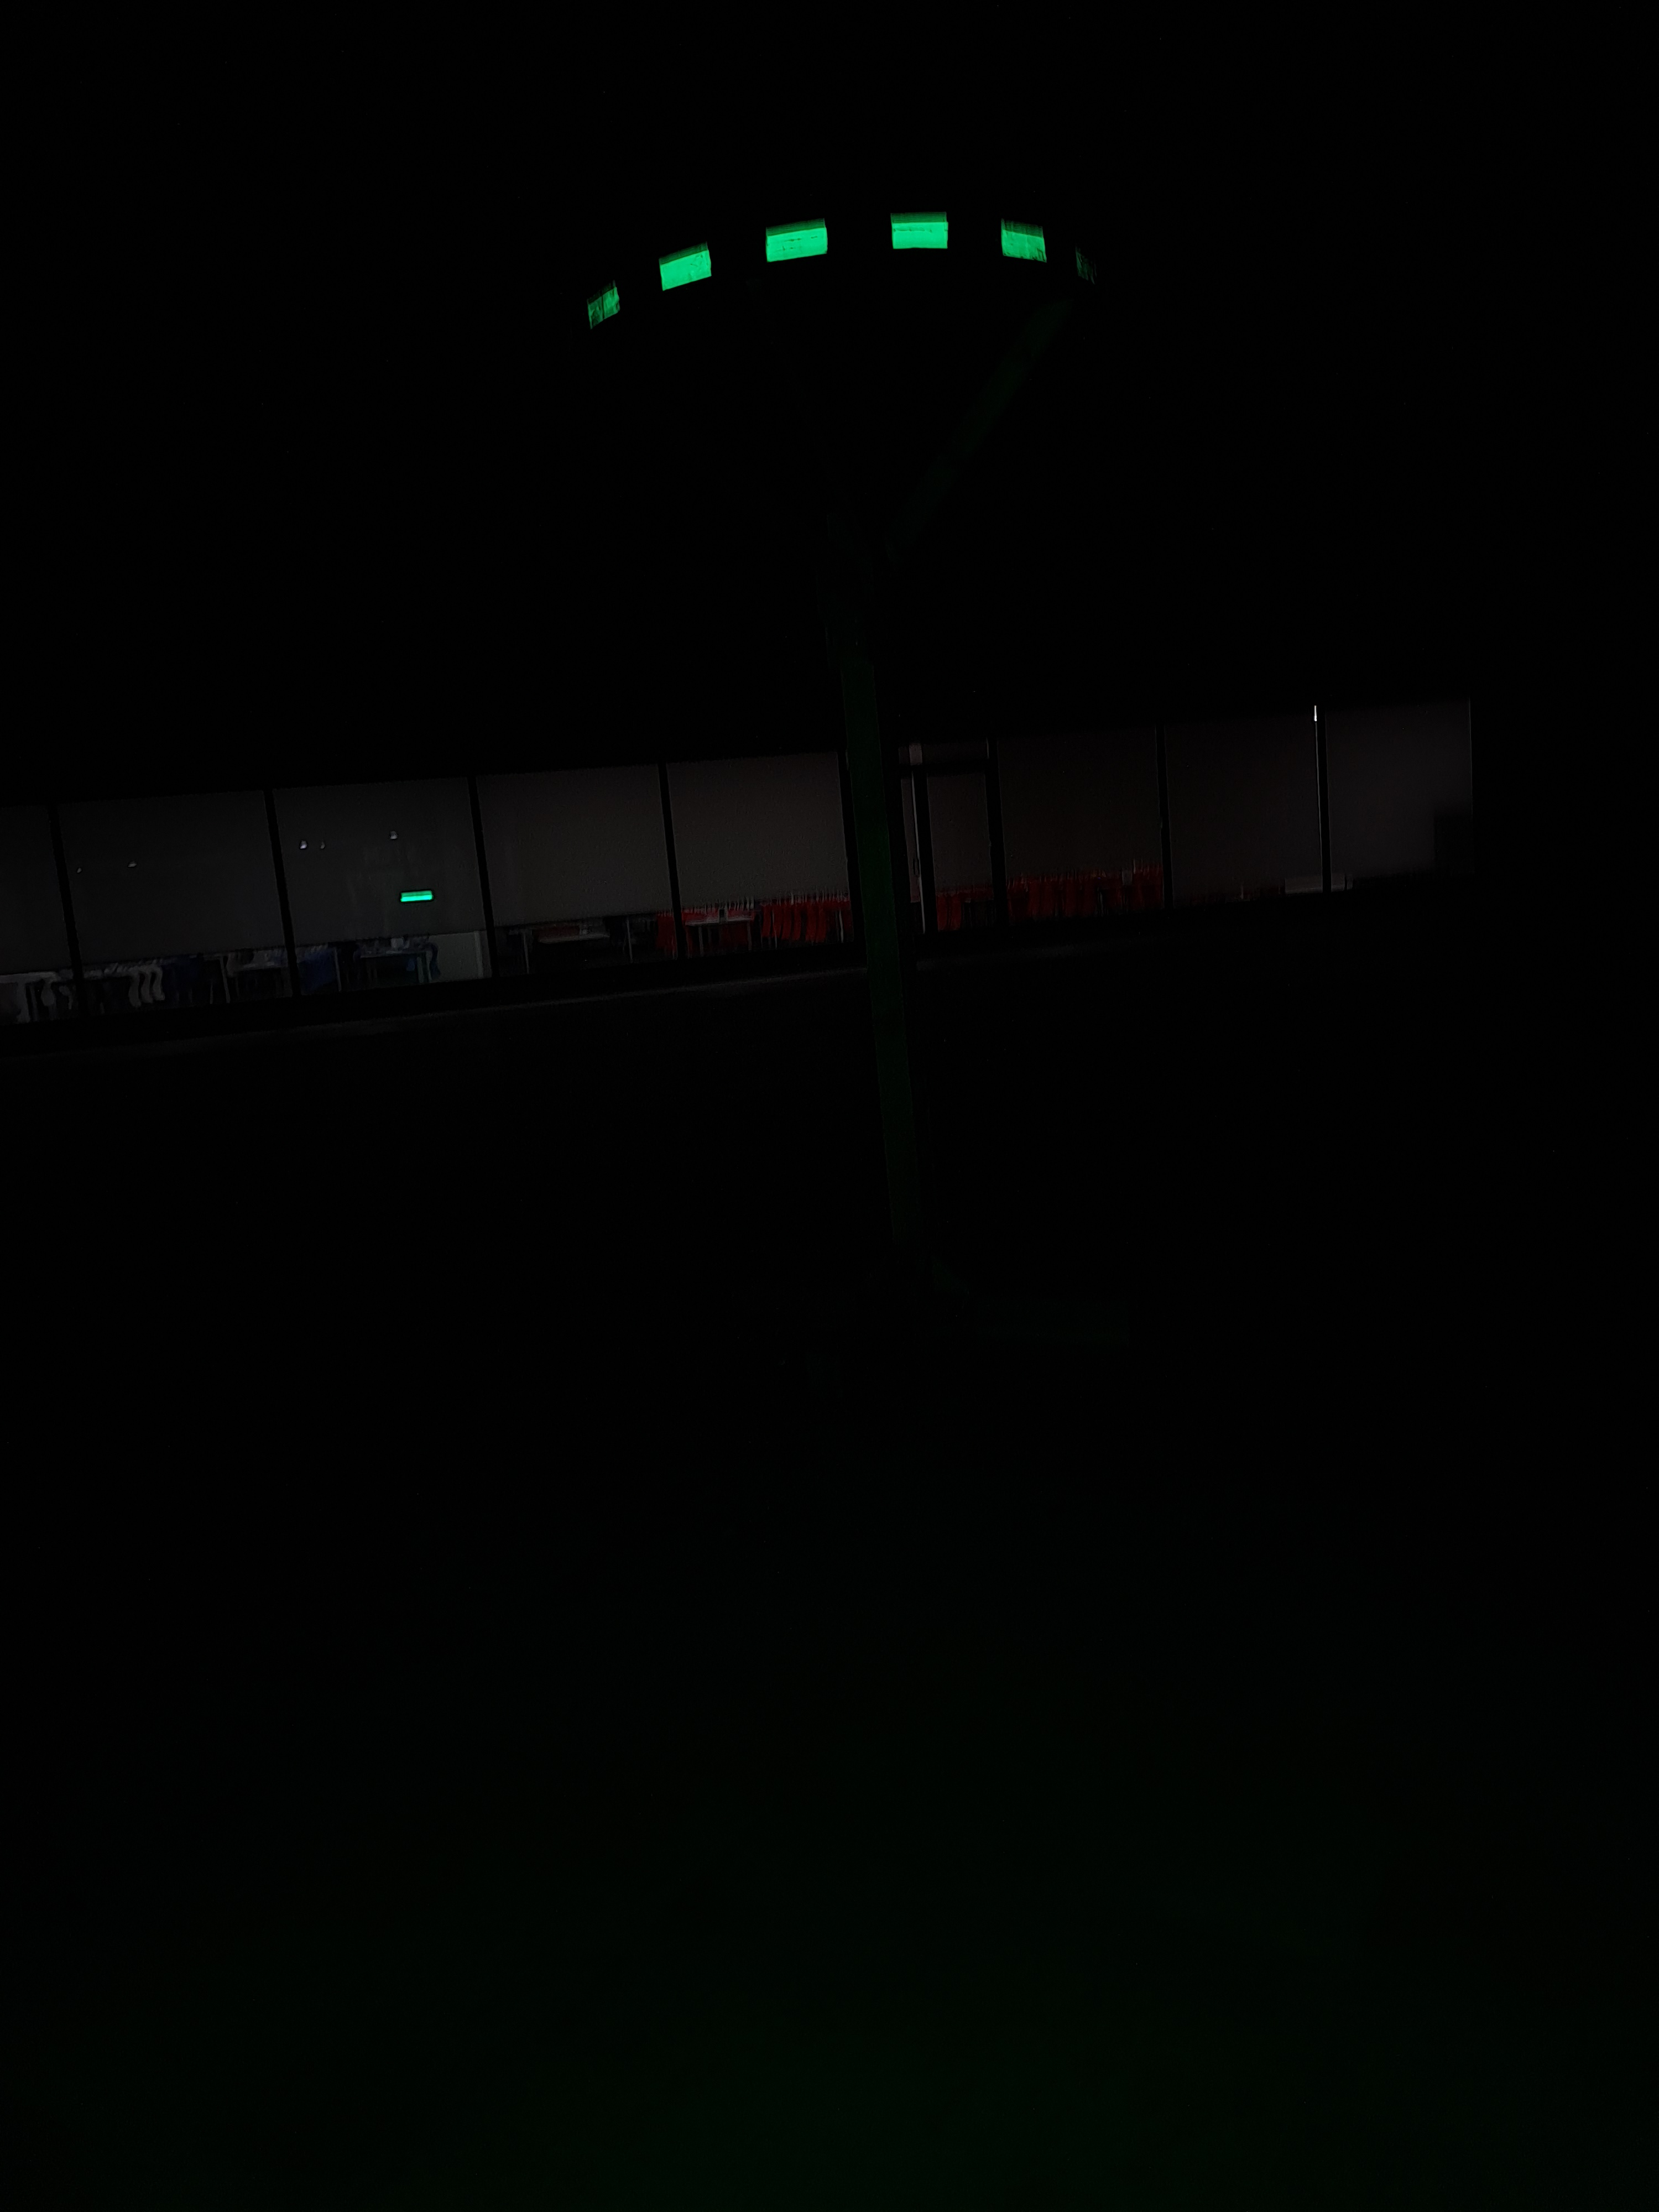hoop: (542, 207, 1063, 334)
